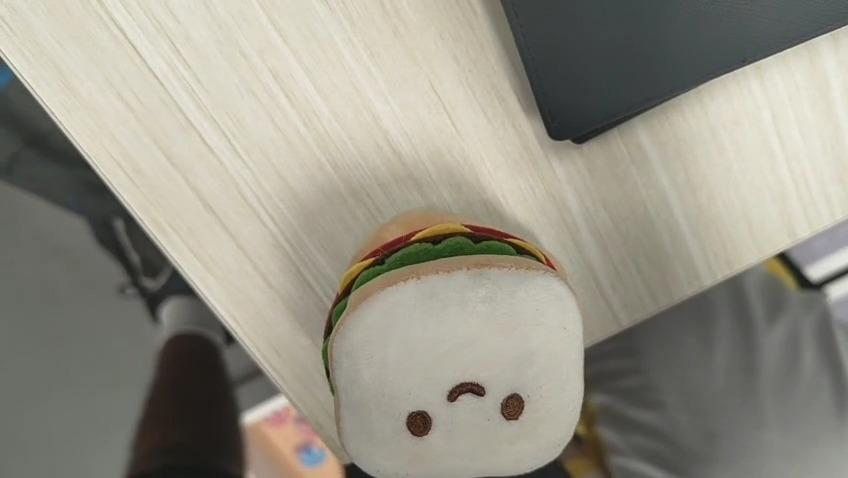objects: (321, 212, 586, 478)
